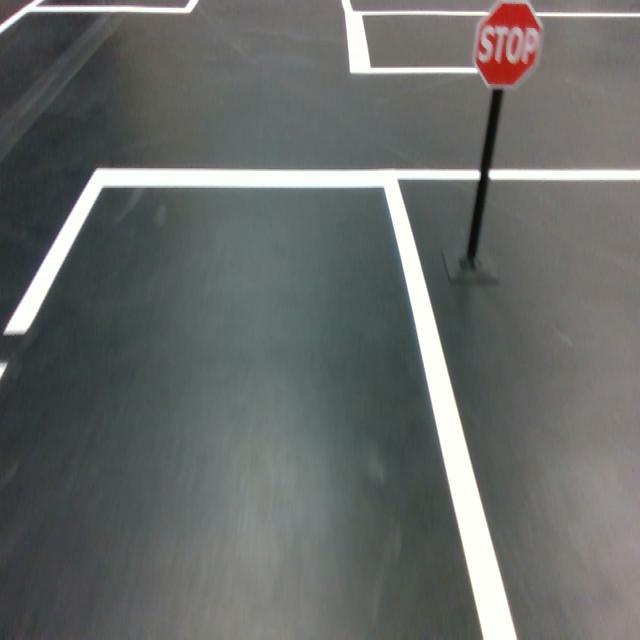stop-sign: (472, 0, 544, 90)
